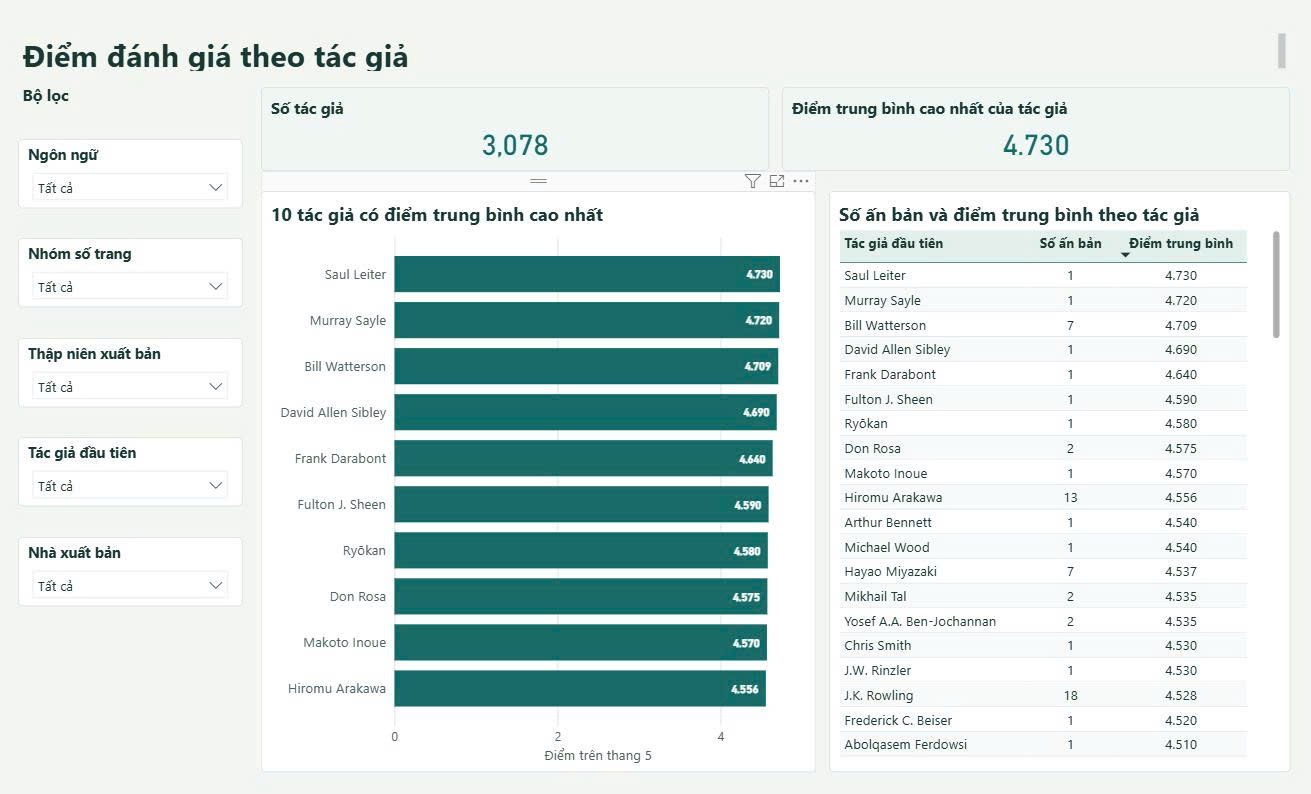

The dashboard page shown, as its layout file describes it:
{"tool":"powerbi","page":{"name":"Tác giả","canvas":[1440,850],"ordinal":4},"visuals":[{"type":"slicer","title":"Tác giả đầu tiên","fields":{"Values":["Sách.Tác giả đứng tên đầu"]},"box":[24,459,246,76],"z":0},{"type":"tableEx","title":"Số ấn bản và điểm trung bình theo tác giả","fields":{"Values":["Sách.Tác giả đứng tên đầu","Sách.Ấn bản có điểm để vẽ","Sách.Điểm trung bình"]},"box":[911,189,505,636],"z":1000},{"type":"clusteredBarChart","title":"10 tác giả có điểm trung bình cao nhất","fields":{"Category":["Sách.Tác giả đứng tên đầu"],"Y":["Sách.Điểm trung bình"]},"box":[290,189,607,636],"z":2000},{"type":"textbox","box":[24,67,249,38],"z":3000},{"type":"textbox","box":[24,12,1392,51],"z":4000},{"type":"card","title":"Số tác giả","fields":{"Values":["Sách.Số tác giả đứng tên đầu"]},"box":[290,75,556,92],"z":5000},{"type":"card","title":"Điểm trung bình cao nhất của tác giả","fields":{"Values":["Sách.Điểm trung bình cao nhất của tác giả"]},"box":[860,75,556,92],"z":6000},{"type":"slicer","title":"Nhà xuất bản","fields":{"Values":["Sách.Nhà xuất bản hiển thị"]},"box":[24,568,246,76],"z":7000},{"type":"slicer","title":"Ngôn ngữ","fields":{"Values":["Sách.Ngôn ngữ"]},"box":[24,132,246,76],"z":9000},{"type":"slicer","title":"Nhóm số trang","fields":{"Values":["Sách.Nhóm số trang"]},"box":[24,241,246,76],"z":10000},{"type":"slicer","title":"Thập niên xuất bản","fields":{"Values":["Kỳ xuất bản.Thập niên"]},"box":[24,350,246,76],"z":11000}]}

Visuals, with their boxes in screenshot pixels (x1, y1, x2, y2), scaled from the page's 1440x850 canvas onto the 1311x794 screenshot:
"Tác giả đầu tiên" slicer: region(22, 429, 246, 500)
"Số ấn bản và điểm trung bình theo tác giả" tableEx: region(829, 177, 1289, 771)
"10 tác giả có điểm trung bình cao nhất" clusteredBarChart: region(264, 177, 817, 771)
textbox: region(22, 63, 249, 98)
textbox: region(22, 11, 1289, 59)
"Số tác giả" card: region(264, 70, 770, 156)
"Điểm trung bình cao nhất của tác giả" card: region(783, 70, 1289, 156)
"Nhà xuất bản" slicer: region(22, 531, 246, 602)
"Ngôn ngữ" slicer: region(22, 123, 246, 194)
"Nhóm số trang" slicer: region(22, 225, 246, 296)
"Thập niên xuất bản" slicer: region(22, 327, 246, 398)
